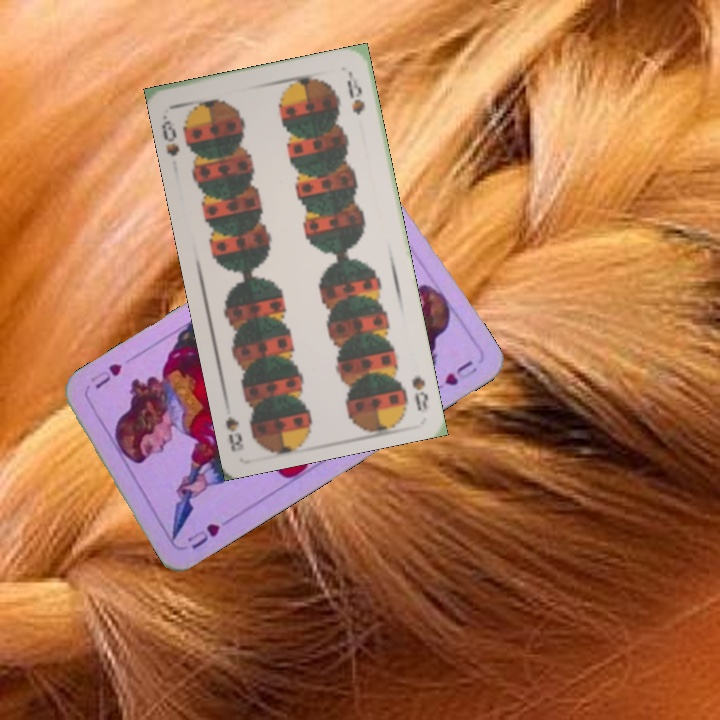HU: (183, 513, 235, 552)
S8: (158, 111, 182, 159), (407, 372, 431, 414)
